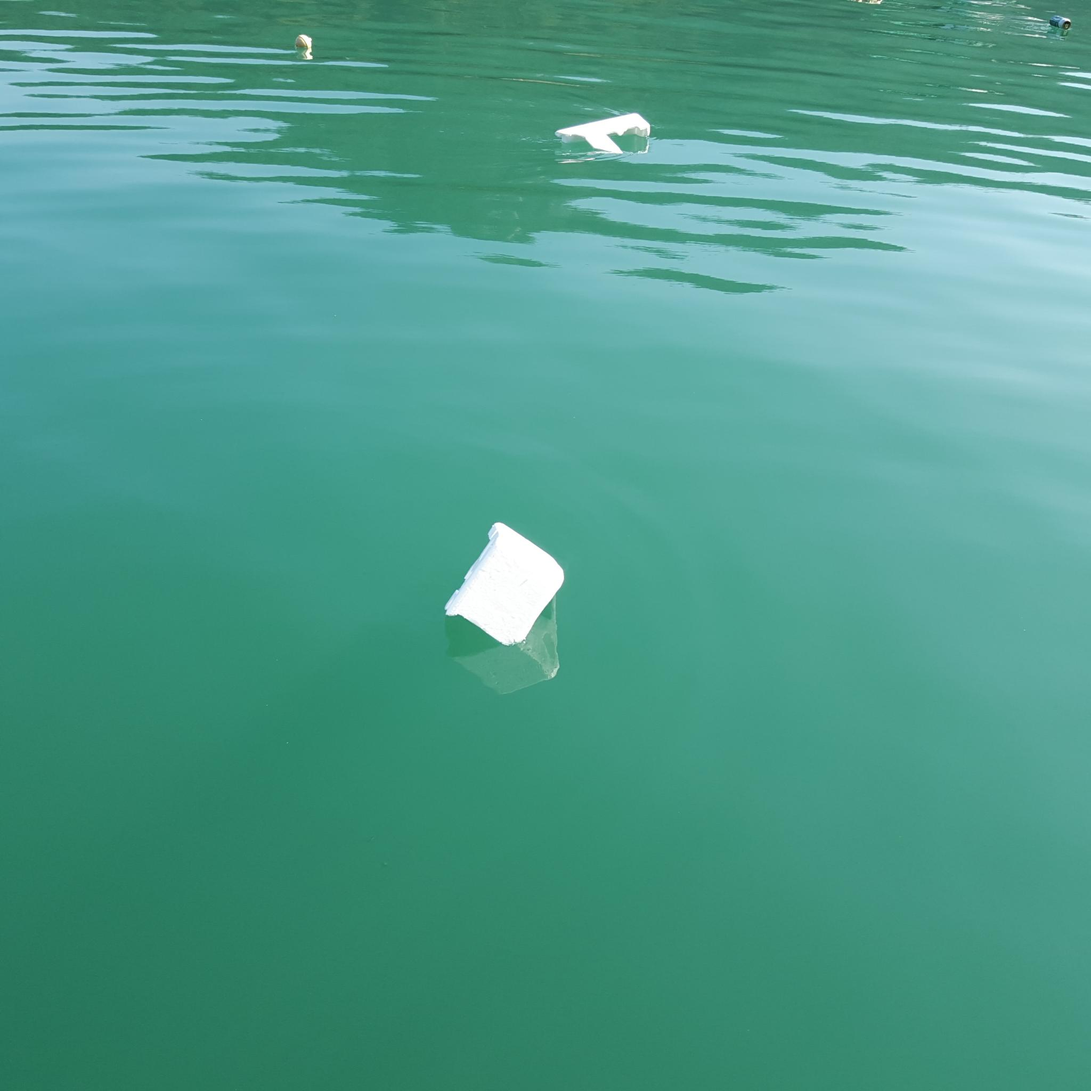sampah_terapung: (444, 522, 565, 647), (555, 114, 650, 154), (1049, 15, 1072, 30), (296, 35, 313, 49)
